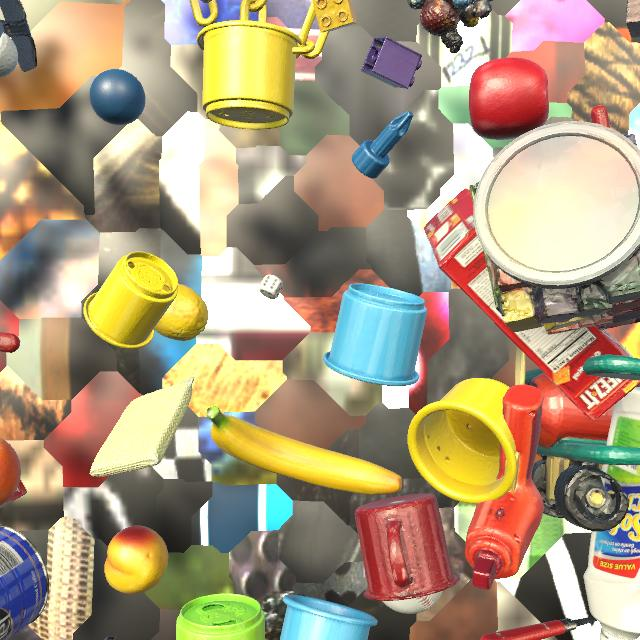ycb_002_master_chef_can: (0, 525, 49, 640)
ycb_003_cracker_box: (424, 188, 640, 422), (0, 479, 27, 508)
ycb_011_banana: (206, 406, 402, 495)
ycb_013_apple: (469, 58, 549, 140)
ycb_014_lemon: (154, 284, 208, 341)
ycb_015_peach: (104, 525, 168, 594)
ycb_017_orange: (0, 438, 21, 506)
